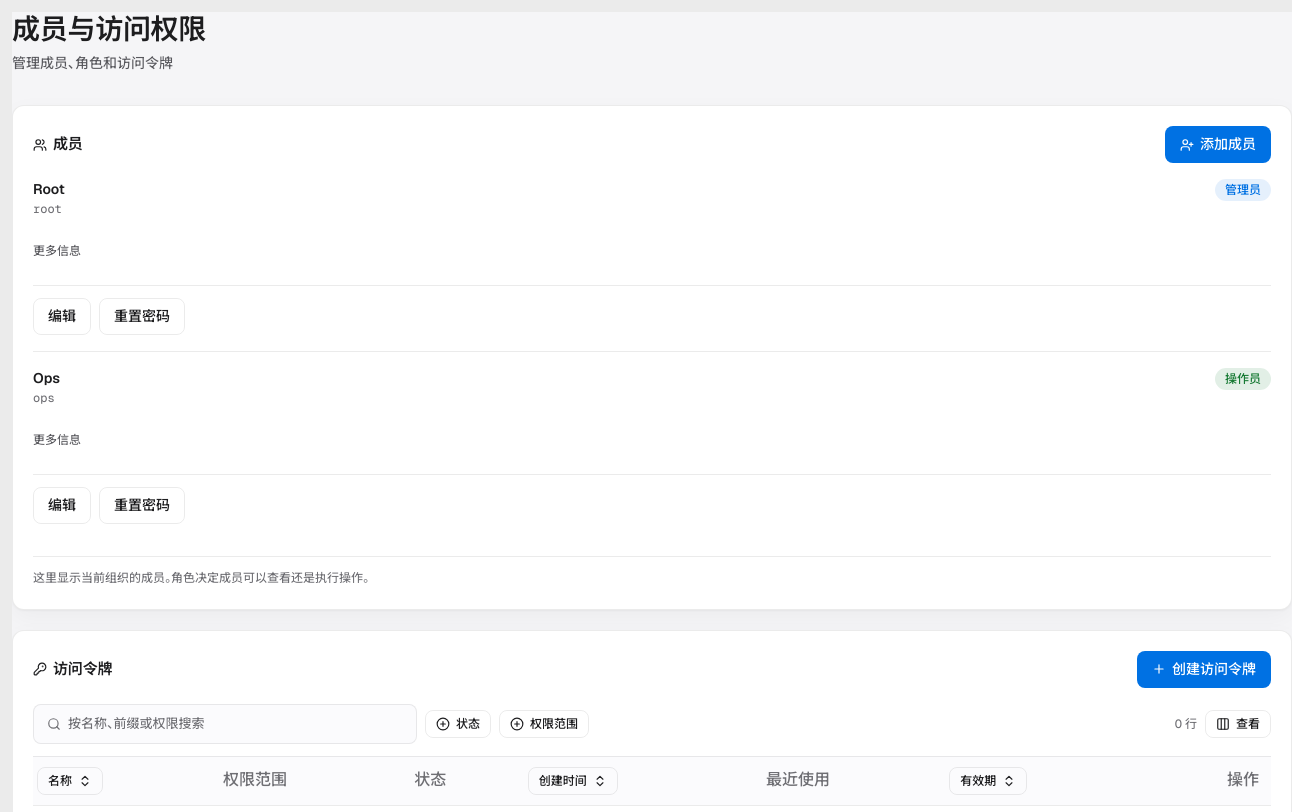
Scenario: TestAdminCanManageUsers › 重置密码：空密码就地报错，不发请求
The width and height of the screenshot is (1292, 812).
Step 1. Click the button with aria-label "重置成员密码：ops" → (142, 506), box [99, 487, 185, 524]
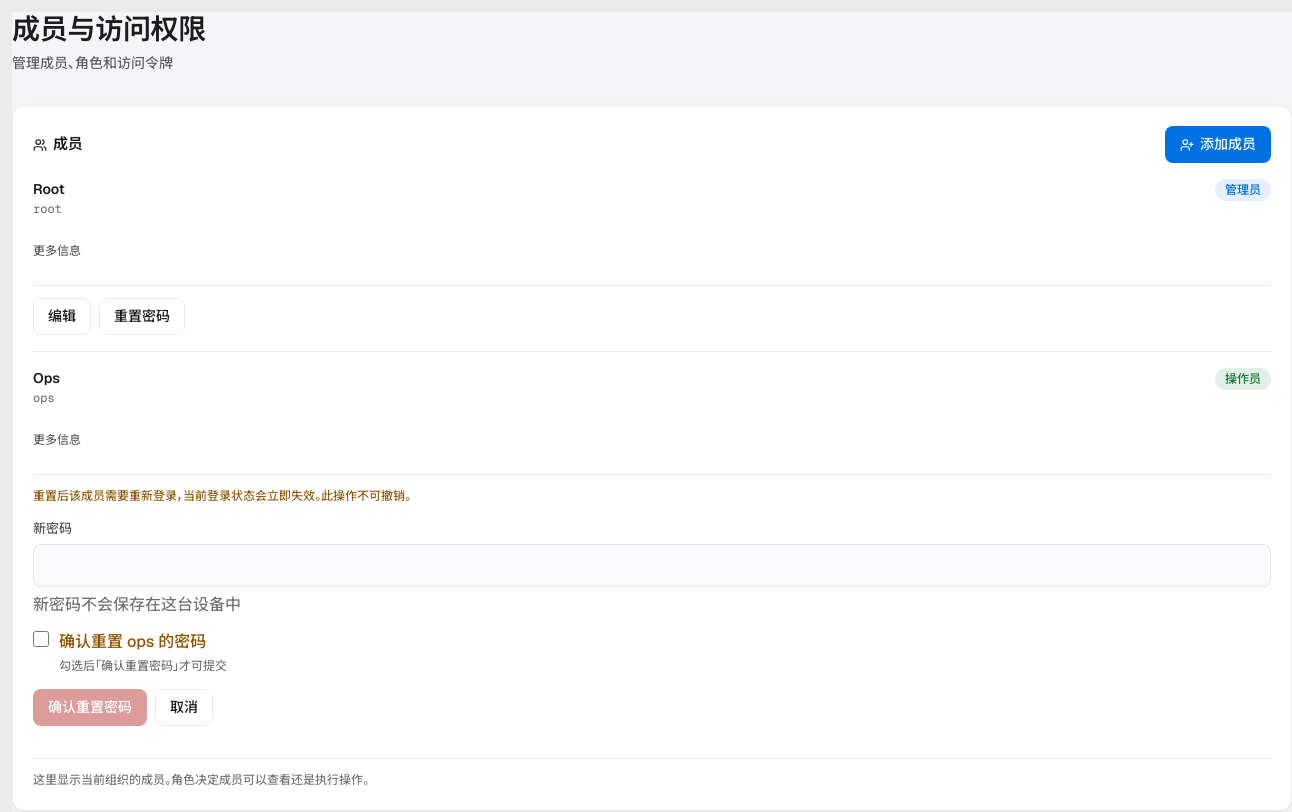
Step 2. Click the checkbox labelled "确认重置 ops 的密码" → (41, 639), box [33, 631, 49, 647]
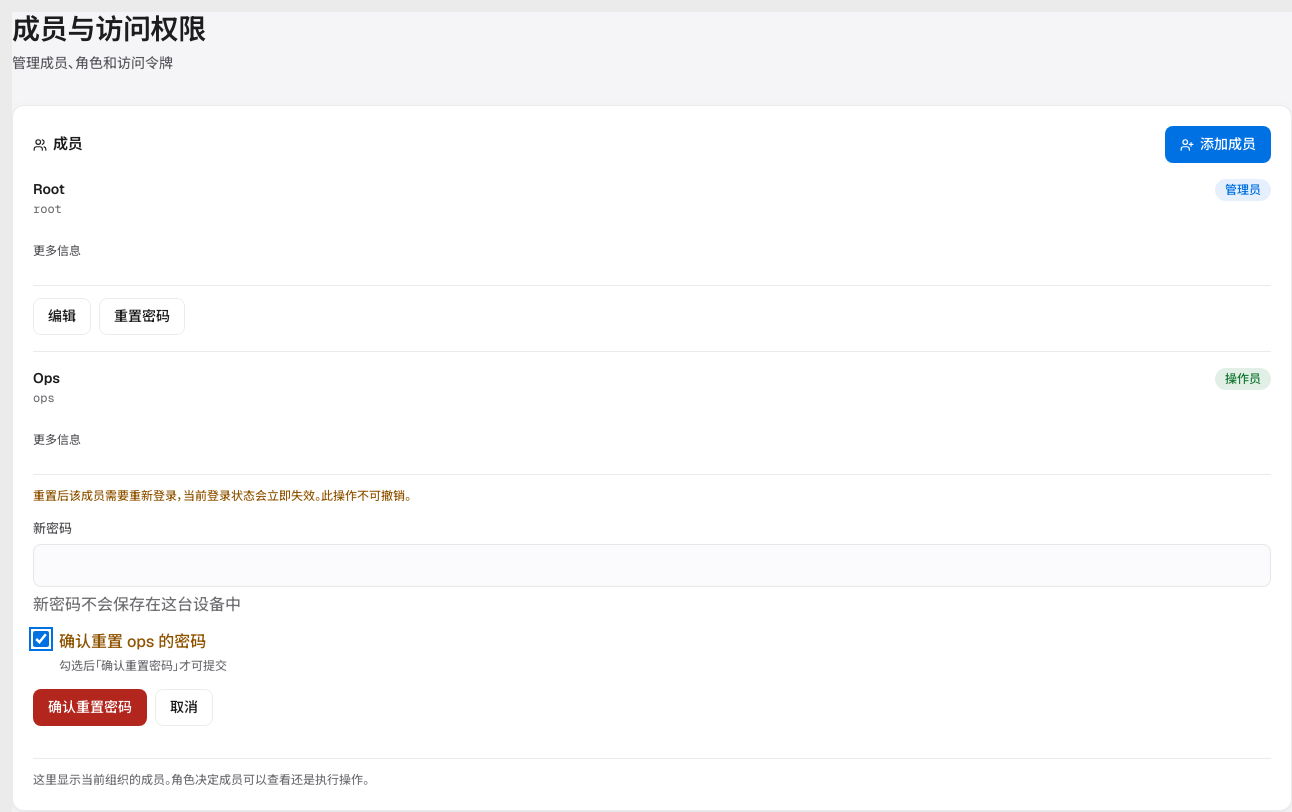
Step 3. Click the button with aria-label "确认重置 ops 的密码" → (90, 707), box [33, 688, 147, 726]
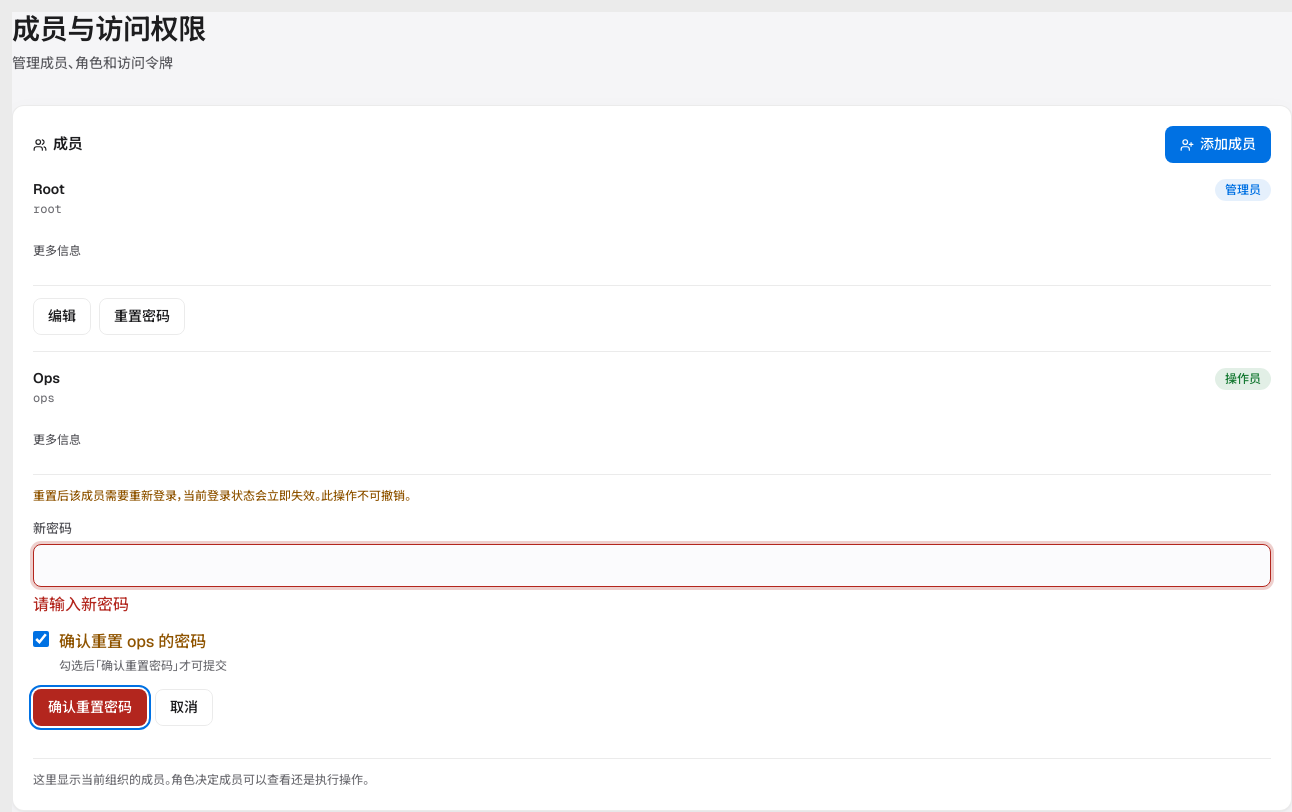
Now the text "请输入新密码" is shown, box [33, 594, 129, 615]
